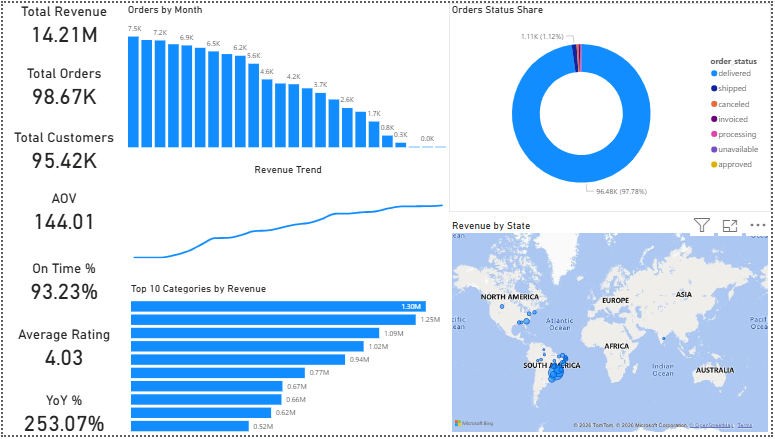

The dashboard page shown, as its layout file describes it:
{"tool":"powerbi","page":{"name":"Overview (Executive Dashboard)","canvas":[1280,720],"ordinal":0},"visuals":[{"type":"card","title":"Total Revenue","fields":{"Values":["public bi_fact_sales.Revenue"]},"box":[0,0,203.6,72],"z":0},{"type":"card","title":"Total Orders","fields":{"Values":["public bi_fact_sales.Orders"]},"box":[0,102.6,203.6,72],"z":1000},{"type":"card","title":"Total Customers","fields":{"Values":["public bi_fact_sales.Customers"]},"box":[0,209.8,203.6,72],"z":2000},{"type":"card","title":"AOV","fields":{"Values":["public bi_fact_sales.AOV"]},"box":[0,312.3,203.6,72],"z":3000},{"type":"card","title":"On Time %","fields":{"Values":["public bi_fact_sales.On-time %"]},"box":[0,428.7,203.6,72],"z":4000},{"type":"card","title":"Average Rating","fields":{"Values":["public bi_fact_sales.Avg Rating"]},"box":[0,538.9,203.6,72],"z":5000},{"type":"card","title":"YoY %","fields":{"Values":["public bi_fact_sales.YoY %"]},"box":[0,647.7,203.6,72],"z":6000},{"type":"lineChart","title":"Revenue Trend","fields":{"Category":["DimDate.Year-Month"],"Y":["public bi_fact_sales.Revenue"]},"box":[205.2,266.4,540.5,163.8],"z":7000},{"type":"clusteredColumnChart","title":"Orders by Month","fields":{"Category":["DimDate.Year-Month"],"Y":["public bi_fact_sales.Orders"]},"box":[203.6,0,540.5,246.5],"z":8000},{"type":"barChart","title":"Top 10 Categories by Revenue","fields":{"Category":["public bi_fact_sales.category"],"Y":["public bi_fact_sales.Revenue"]},"box":[208.2,465.5,535.9,254.2],"z":9000},{"type":"map","title":"Revenue by State","fields":{"Category":["public bi_fact_sales.customer_state"],"Size":["public bi_fact_sales.Revenue"]},"box":[744.1,359.8,535.9,359.8],"z":10000},{"type":"donutChart","title":"Orders Status Share","fields":{"Category":["public bi_fact_sales.order_status"],"Y":["public bi_fact_sales.Orders"]},"box":[744.1,0,535.9,349.1],"z":11000}]}

Visuals, with their boxes in screenshot pixels (x1, y1, x2, y2), scaled from the page's 1280x720 canvas onto the 775x439 screenshot:
"Total Revenue" card: (0, 0, 123, 44)
"Total Orders" card: (0, 63, 123, 106)
"Total Customers" card: (0, 128, 123, 172)
"AOV" card: (0, 190, 123, 234)
"On Time %" card: (0, 261, 123, 305)
"Average Rating" card: (0, 329, 123, 372)
"YoY %" card: (0, 395, 123, 438)
"Revenue Trend" lineChart: (124, 162, 451, 262)
"Orders by Month" clusteredColumnChart: (123, 0, 451, 150)
"Top 10 Categories by Revenue" barChart: (126, 284, 451, 438)
"Revenue by State" map: (451, 219, 774, 438)
"Orders Status Share" donutChart: (451, 0, 774, 213)
